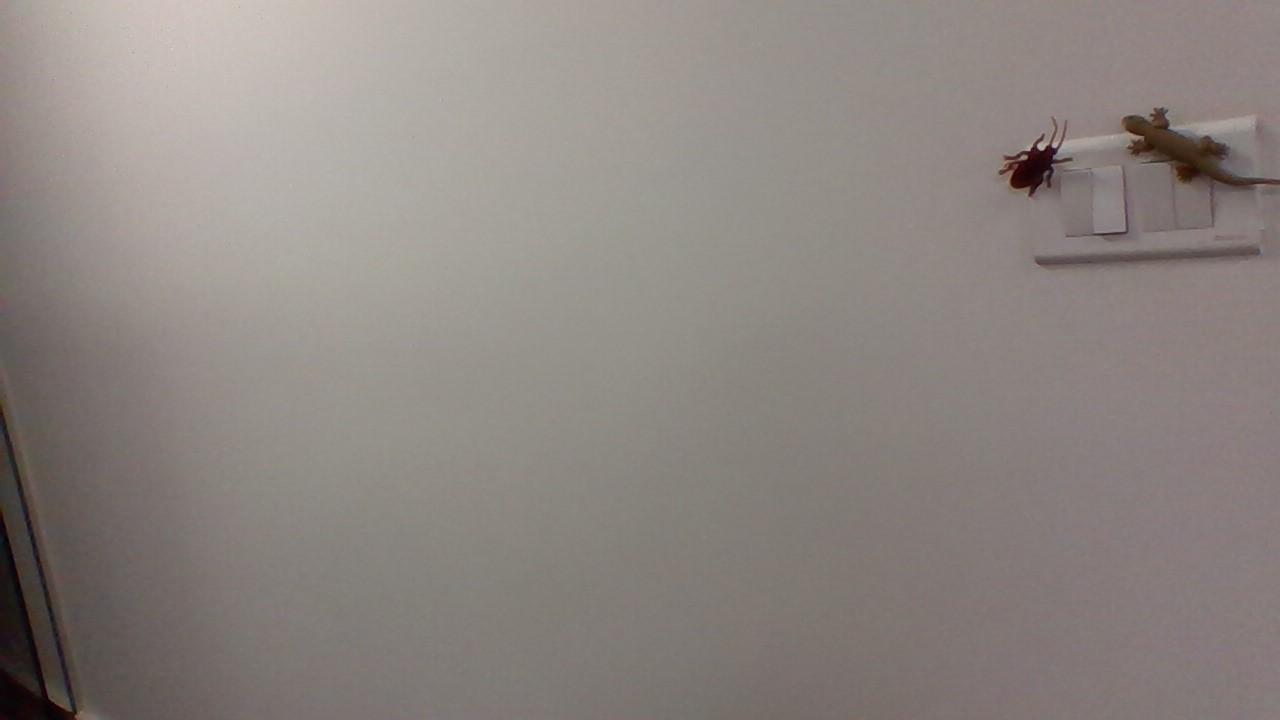cockroach: (1000, 116, 1074, 210)
lizard: (1119, 97, 1280, 192)
